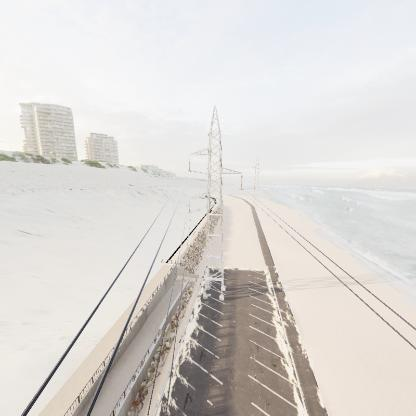tower: (185, 102, 244, 305)
